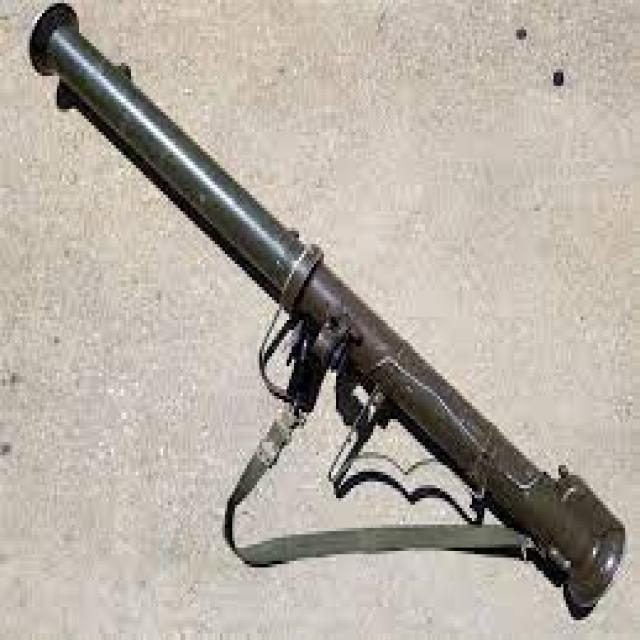bazooka: (8, 5, 631, 632)
